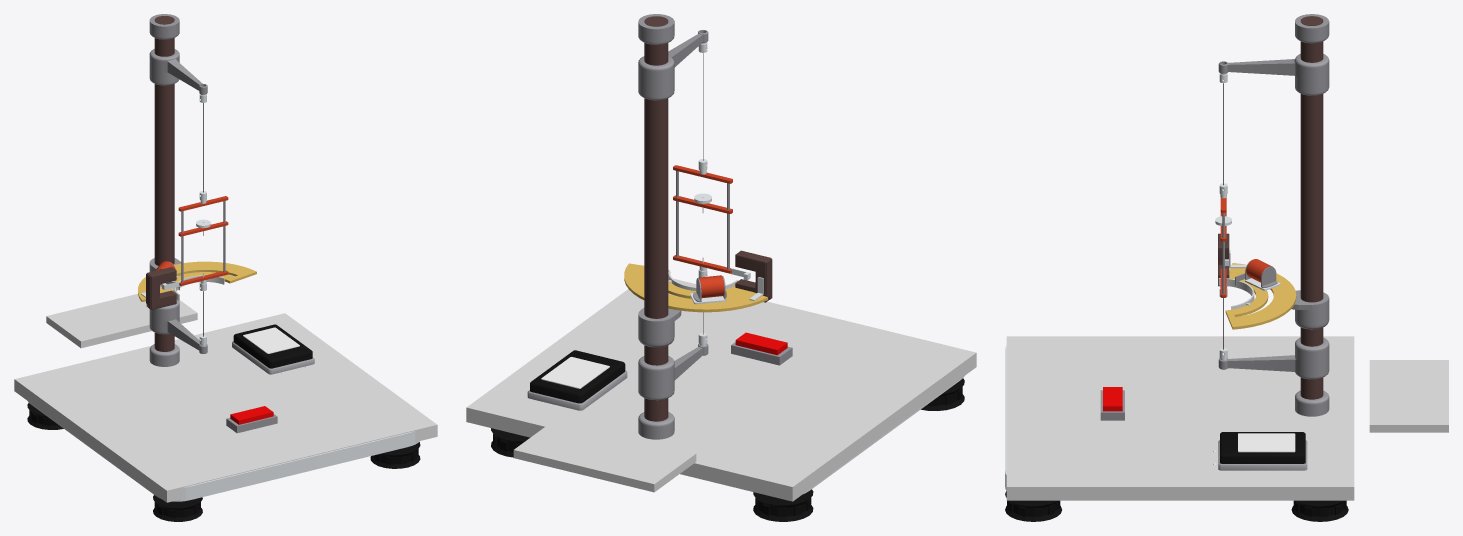
3 views of the same model, side by side, from view 1: azimuth 30°, elevation 25°; view 2: azimuth 150°, elevation 25°; view 3: azimuth 270°, elevation 25° (orthographic). The views are drawn at different scales.
Visible parts, largest first — view 1: Box015, palka, Box014, ploschadka, sec, podderzh001, oporadlyamgnita, podderzh, Cylinder001, ekran, vichisl, Cylinder006 (+5 smaller); view 2: Box015, Box014, palka, oporadlyamgnita, sec, podderzh001, podderzh, Cylinder008, ekran, podoporu, vichisl, Cylinder013 (+6 smaller); view 3: Box015, palka, Box014, podderzh001, podderzh, oporadlyamgnita, sec, ekran, Cylinder006, Cylinder010, podoporu, Cylinder013 (+2 smaller).
Boxes of the visible parts, left/top/right/bottom form: Box015: left=14, top=313, right=437, bottom=502; palka: left=154, top=16, right=174, bottom=351; Box014: left=46, top=294, right=197, bottom=348; ploschadka: left=28, top=401, right=419, bottom=501; sec: left=233, top=324, right=312, bottom=368; podderzh001: left=149, top=49, right=207, bottom=94; oporadlyamgnita: left=138, top=261, right=256, bottom=301; podderzh: left=149, top=299, right=207, bottom=353; Cylinder001: left=153, top=495, right=202, bottom=521; ekran: left=243, top=327, right=299, bottom=353; vichisl: left=146, top=267, right=176, bottom=309; Cylinder006: left=370, top=442, right=420, bottom=468; Box015: left=466, top=278, right=976, bottom=501; Box014: left=513, top=419, right=696, bottom=492; palka: left=644, top=16, right=668, bottom=421; oporadlyamgnita: left=624, top=263, right=767, bottom=312; sec: left=530, top=350, right=625, bottom=403; podderzh001: left=638, top=30, right=708, bottom=100; podderzh: left=638, top=343, right=708, bottom=400; Cylinder008: left=753, top=489, right=813, bottom=521; ekran: left=541, top=357, right=609, bottom=388; podoporu: left=638, top=307, right=681, bottom=347; vichisl: left=735, top=250, right=771, bottom=302; Cylinder013: left=638, top=14, right=674, bottom=44; Box015: left=1006, top=336, right=1354, bottom=500; palka: left=1300, top=16, right=1323, bottom=399; Box014: left=1369, top=360, right=1448, bottom=432; podderzh001: left=1218, top=54, right=1329, bottom=95; podderzh: left=1218, top=337, right=1329, bottom=379; oporadlyamgnita: left=1225, top=263, right=1296, bottom=329; sec: left=1220, top=432, right=1305, bottom=463; ekran: left=1238, top=433, right=1295, bottom=452; Cylinder006: left=1005, top=491, right=1061, bottom=521; Cylinder010: left=1291, top=500, right=1348, bottom=521; podoporu: left=1291, top=290, right=1329, bottom=329; Cylinder013: left=1295, top=14, right=1329, bottom=43.
Bounding box in the file's own units: 62.22 × 82.5 × 77.49.
